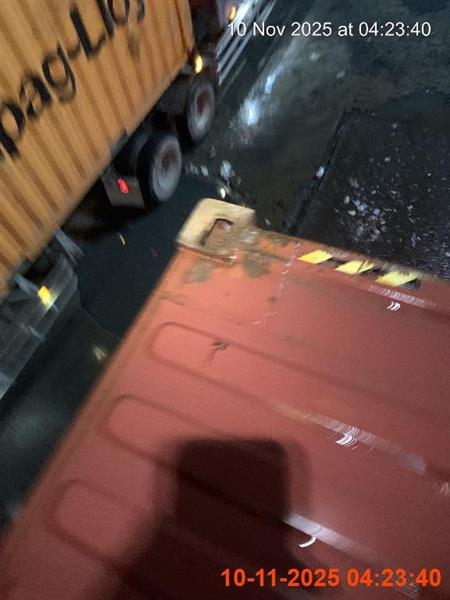hole: (0, 194, 448, 599), (0, 196, 448, 599), (0, 0, 266, 416)
